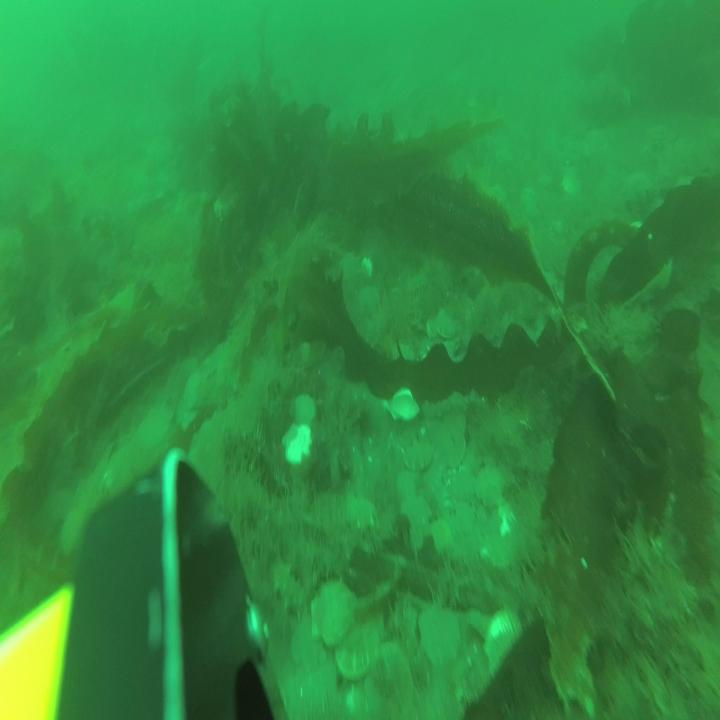holothurian: (269, 554, 309, 624)
scallop: (308, 574, 354, 650), (417, 600, 463, 669), (334, 614, 381, 678), (486, 605, 523, 673), (279, 418, 315, 469), (472, 466, 508, 511), (384, 383, 422, 425), (397, 494, 434, 537), (346, 490, 377, 534), (402, 440, 435, 476), (182, 368, 209, 410), (441, 431, 467, 471), (293, 392, 317, 429), (436, 306, 461, 341), (356, 283, 382, 314), (448, 409, 467, 441), (562, 171, 582, 198), (424, 316, 438, 341)
